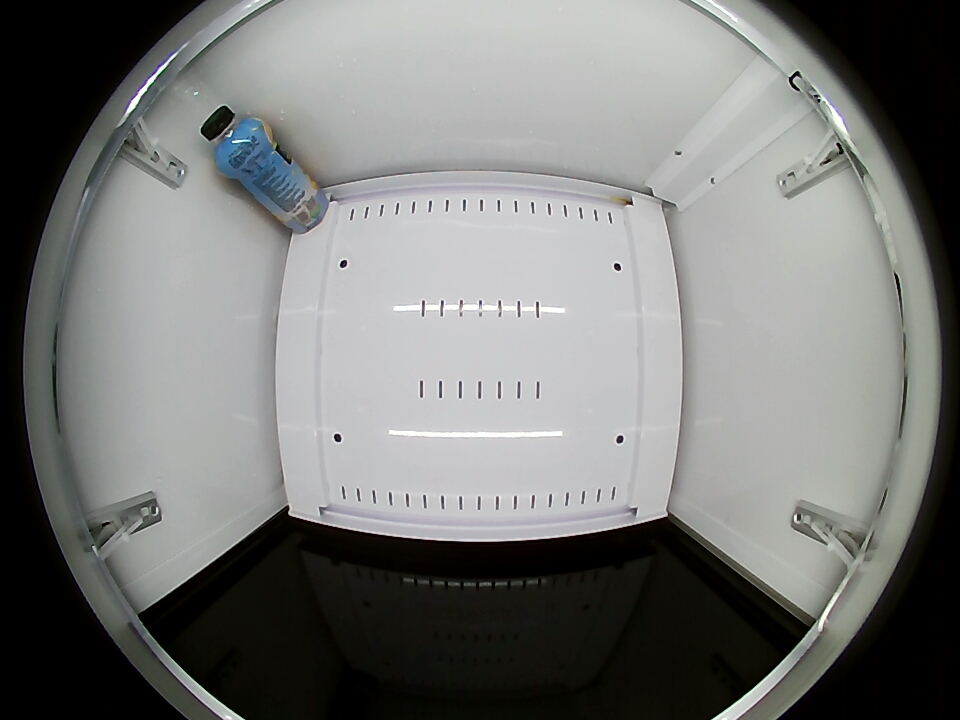guolicheng2: (200, 106, 272, 178)
